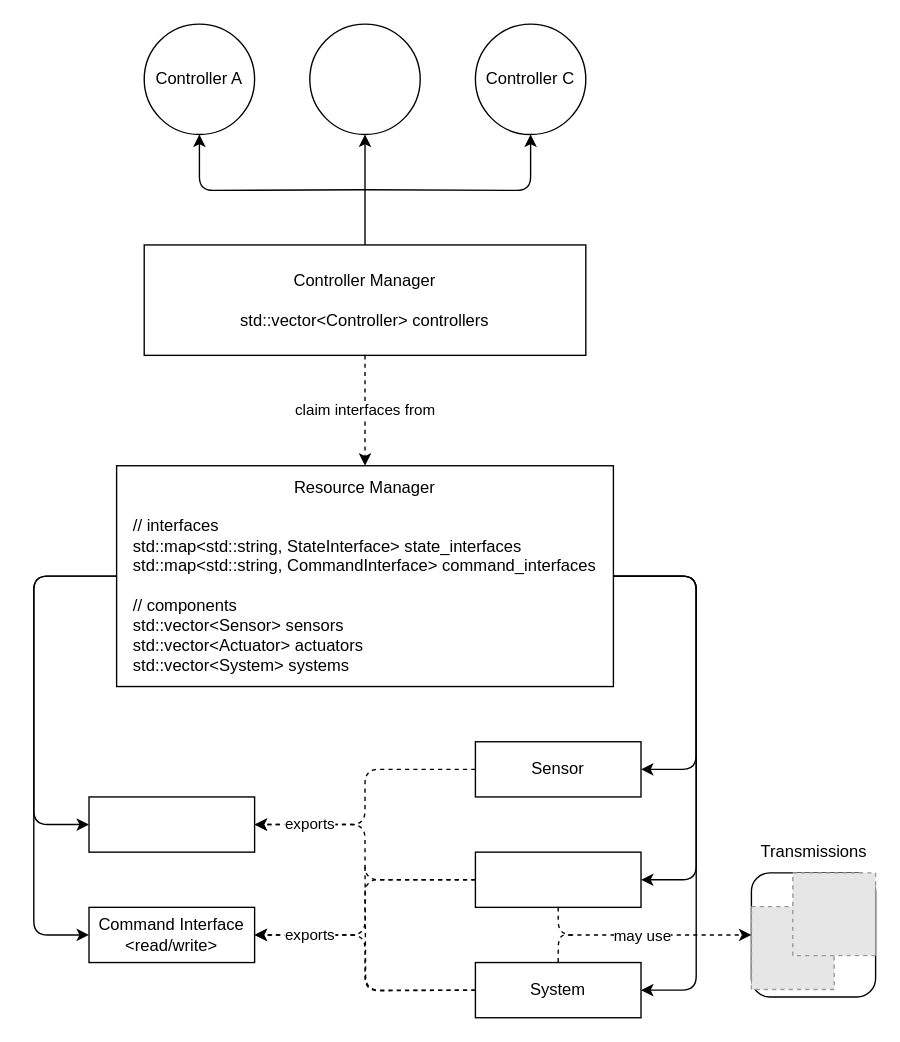
Image size: 900x1042. Some labels were removed from this diagram. Grey dashed boxes stand in for pictures. The shapes that lost their labels are listed below. From the top down, each one's centre as x and y in pixels, then its label:
At [364,79]: "Controller B".
At [171,824]: "State Interface <read only>".
At [557,879]: "Actuator".
